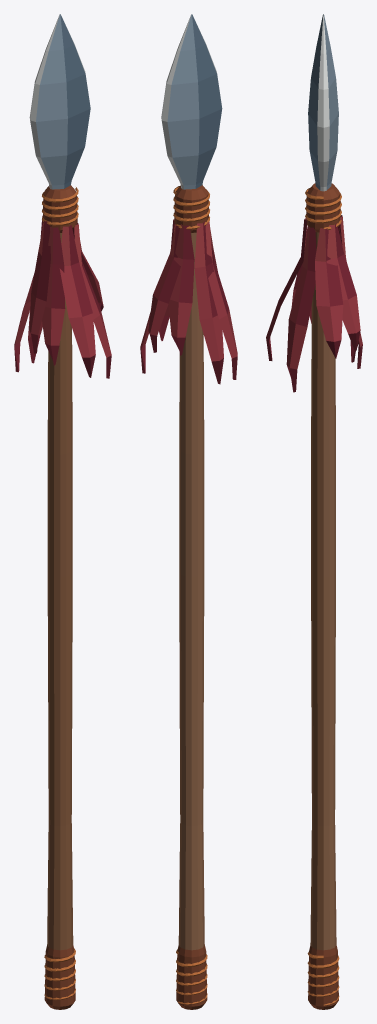
Rendered from wsc-gear-002-spear.glb.
The picture shows the model from 3 angles, left to right: view 1: azimuth 30°, elevation 25°; view 2: azimuth 210°, elevation 25°; view 3: azimuth 270°, elevation 25°; orthographic projection.
Parts seen in each view (by area): view 1: WSC-GEAR-002 Spear | Inventory pivot; view 2: WSC-GEAR-002 Spear | Inventory pivot; view 3: WSC-GEAR-002 Spear | Inventory pivot.
Part boxes in pixels (x1,y1,x2,y2): WSC-GEAR-002 Spear | Inventory pivot: (14,14,111,1009); WSC-GEAR-002 Spear | Inventory pivot: (140,14,237,1009); WSC-GEAR-002 Spear | Inventory pivot: (266,14,362,1009).
Size of the model in its own units: 0.193 by 2.26 by 0.2008.
